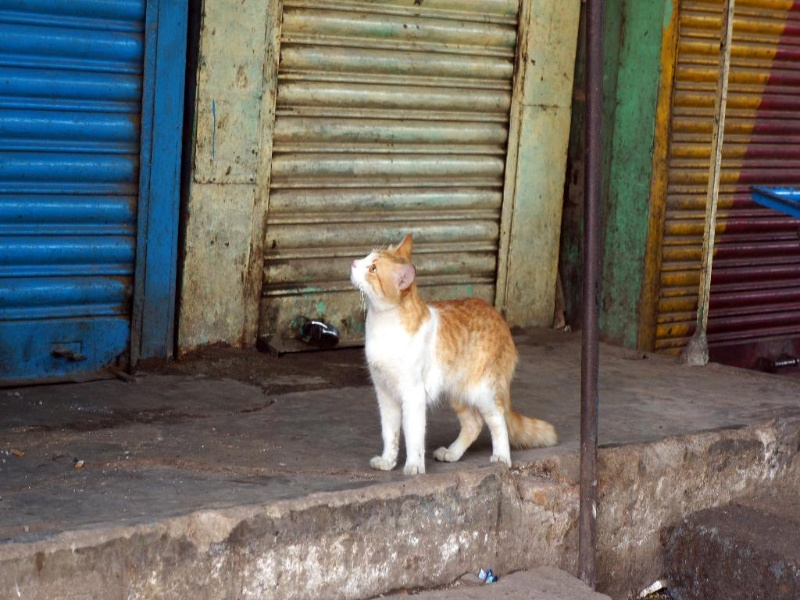cat: (339, 233, 559, 474)
